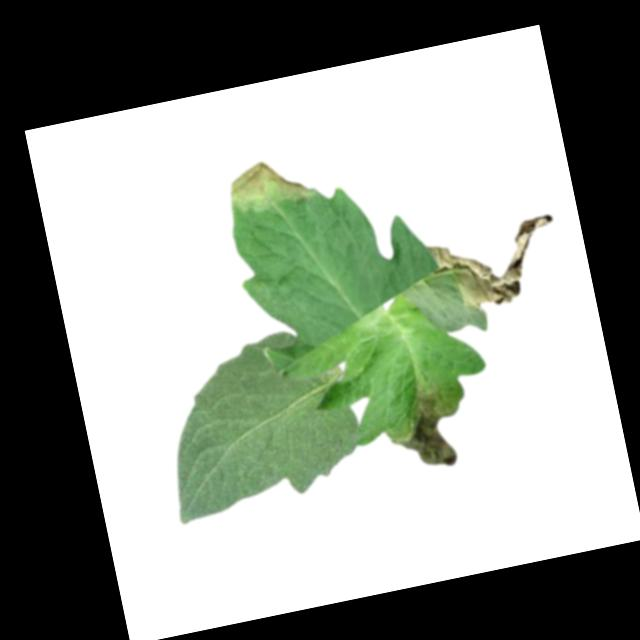Late_blight: (422, 213, 569, 319), (376, 376, 469, 478), (218, 152, 317, 221)
